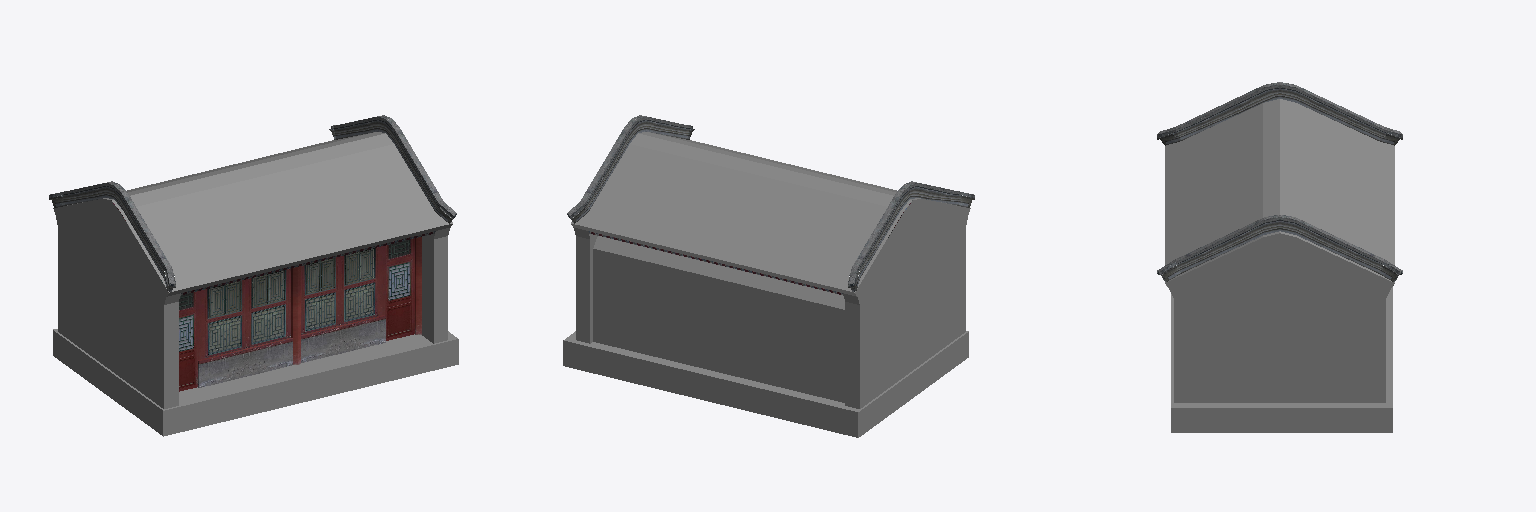
3 views of the same model, side by side, from view 1: azimuth 30°, elevation 25°; view 2: azimuth 150°, elevation 25°; view 3: azimuth 270°, elevation 25° (orthographic).
Visible parts, largest first — view 1: polySurface2764; view 2: polySurface2764; view 3: polySurface2764.
Boxes of the visible parts, box(x1,y1,x2,y2) form: polySurface2764: box(49, 115, 458, 436); polySurface2764: box(563, 115, 974, 437); polySurface2764: box(1157, 82, 1402, 432).
Size of the model in its own units: 8.05 by 5.45 by 5.81.
9 materials, 5 textured.